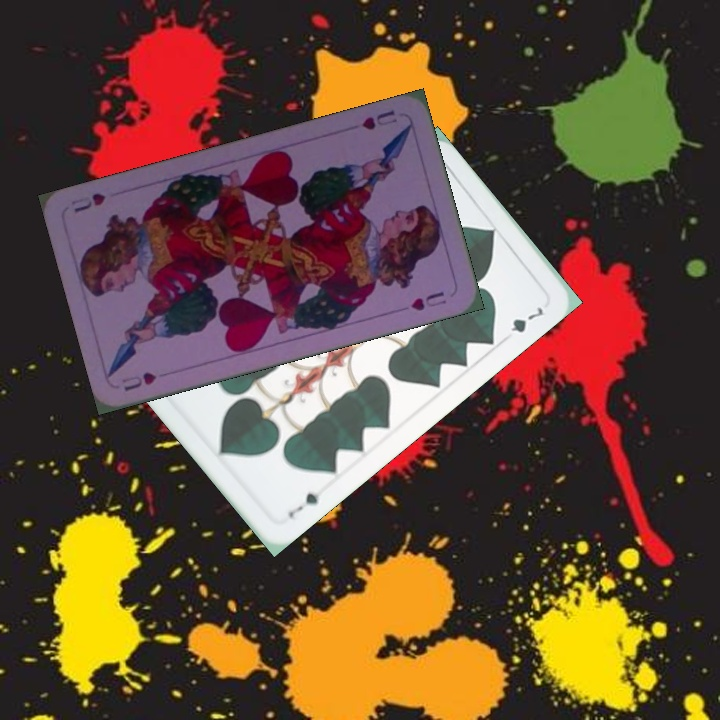G7: (284, 488, 322, 521)
HU: (358, 106, 400, 133), (117, 368, 160, 394)
